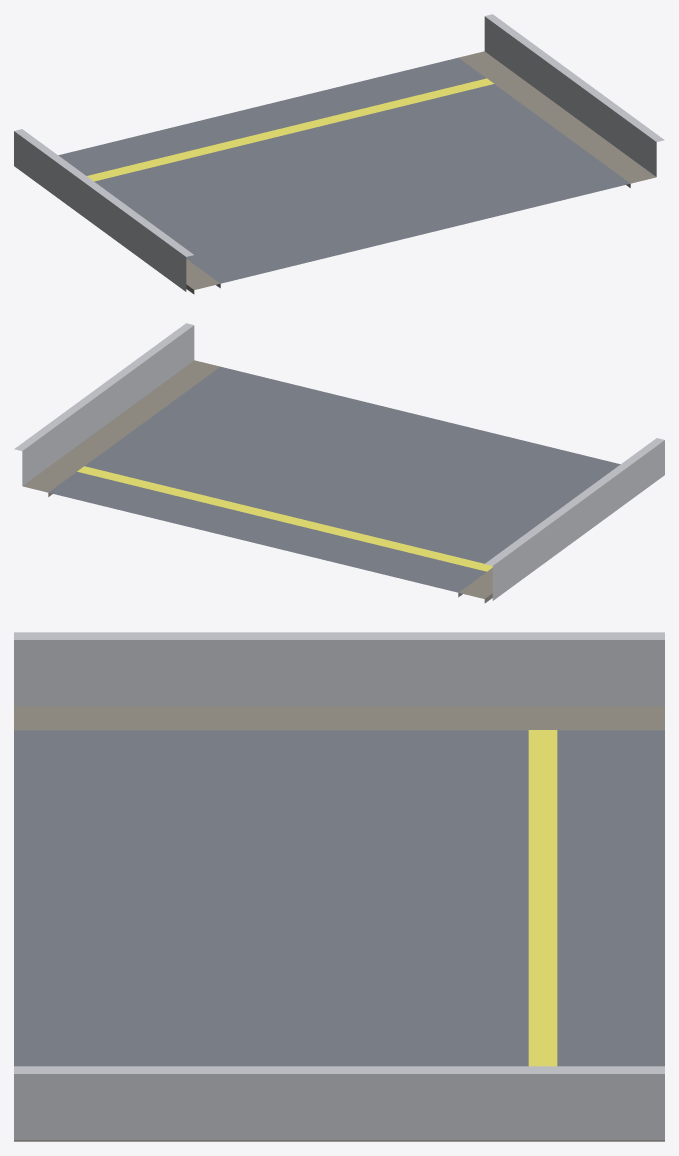
The model's file is track_finish_v1.glb.
The picture shows the model from 3 angles, top to bottom: view 1: azimuth 30°, elevation 25°; view 2: azimuth 150°, elevation 25°; view 3: azimuth 270°, elevation 25°; orthographic projection. The views are drawn at different scales.
Parts seen in each view (by area): view 1: ROAD, RAIL_L, RAIL_R, SHOULDER_R, MARKER, SHOULDER_L; view 2: ROAD, RAIL_L, RAIL_R, SHOULDER_R, MARKER, SHOULDER_L; view 3: ROAD, RAIL_L, RAIL_R, SHOULDER_L, MARKER, SHOULDER_R.
Boxes of the visible parts, box(x1,y1,x2,y2) form: ROAD: box(58, 57, 630, 288); RAIL_L: box(14, 129, 193, 291); RAIL_R: box(484, 14, 664, 176); SHOULDER_R: box(459, 51, 656, 187); MARKER: box(87, 78, 493, 181); SHOULDER_L: box(186, 259, 219, 294); ROAD: box(48, 366, 620, 597); RAIL_L: box(485, 438, 664, 600); RAIL_R: box(14, 323, 194, 485); SHOULDER_R: box(22, 360, 219, 496); MARKER: box(77, 466, 492, 571); SHOULDER_L: box(459, 568, 492, 603); ROAD: box(14, 730, 664, 1066); RAIL_L: box(14, 632, 664, 706); RAIL_R: box(14, 1066, 664, 1140); SHOULDER_L: box(14, 706, 664, 730); MARKER: box(528, 730, 557, 1066); SHOULDER_R: box(14, 1140, 664, 1141).
Bounding box in the file's own units: 12.84 × 1.02 × 8.
